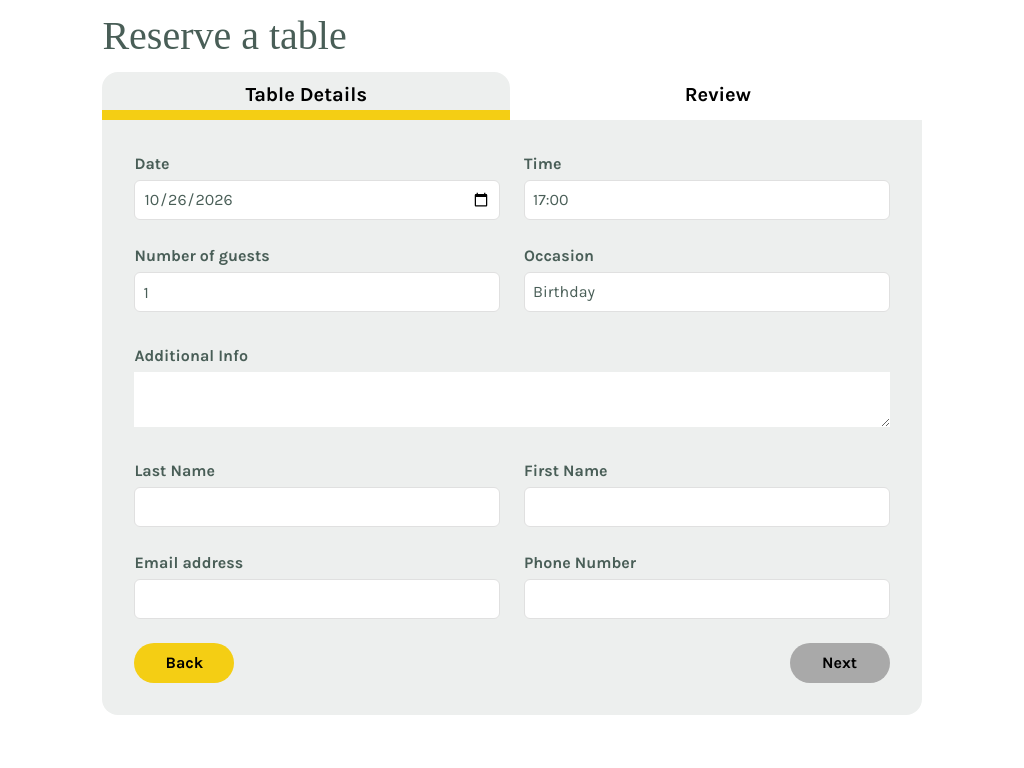
Scenario: Reservation form › should display an error message and disable Next HashLink when email address field's value is not a valid address
In the field labelled "Email address": (317, 599) [134,579,500,619], type "aaa"
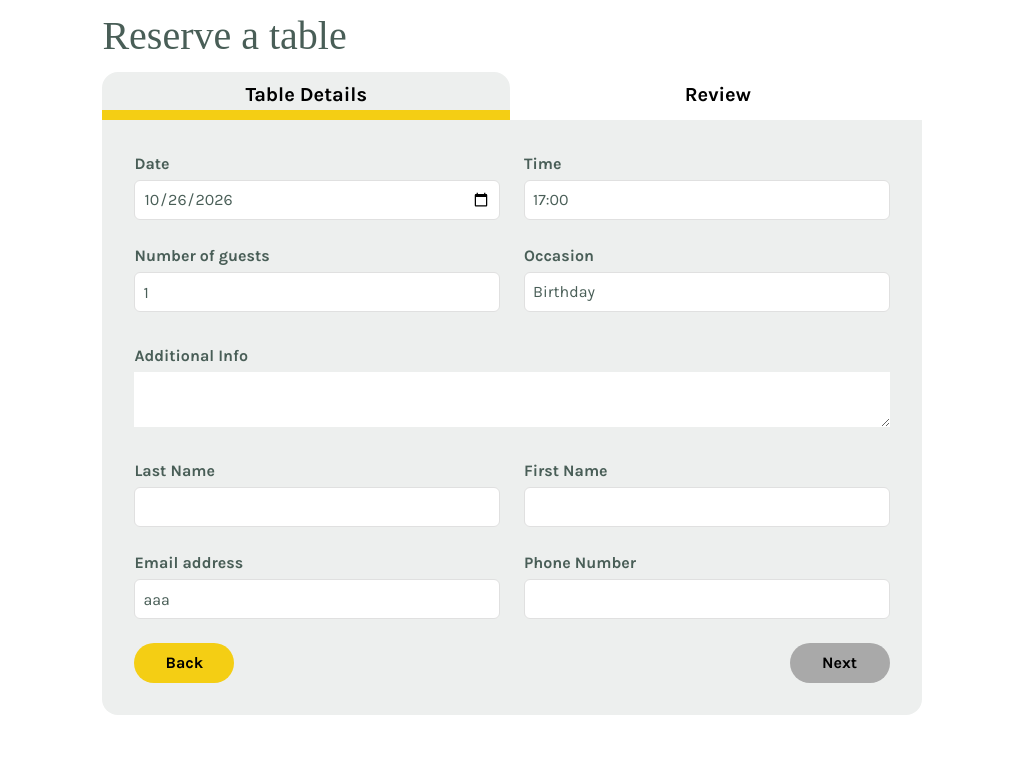
Leave the field labelled "Email address", box [134,579,500,619]
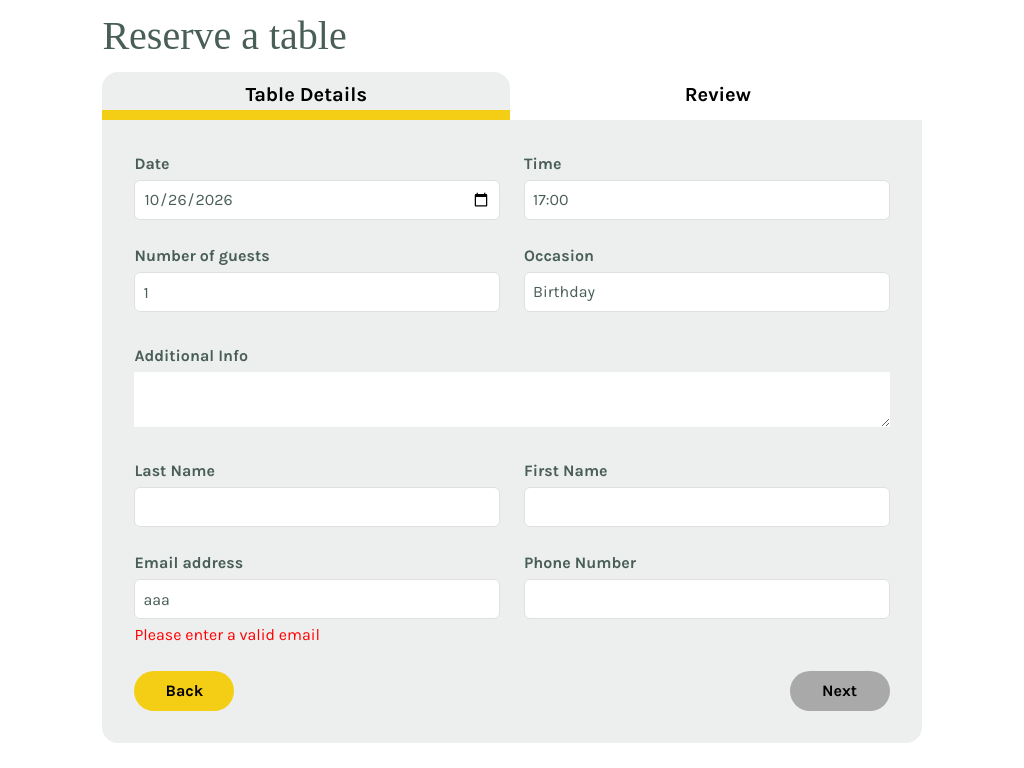
Check: the text with test id "error-message" reads "Please enter a valid email", box [134,625,320,644]
